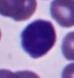L: (20, 18, 56, 59)
